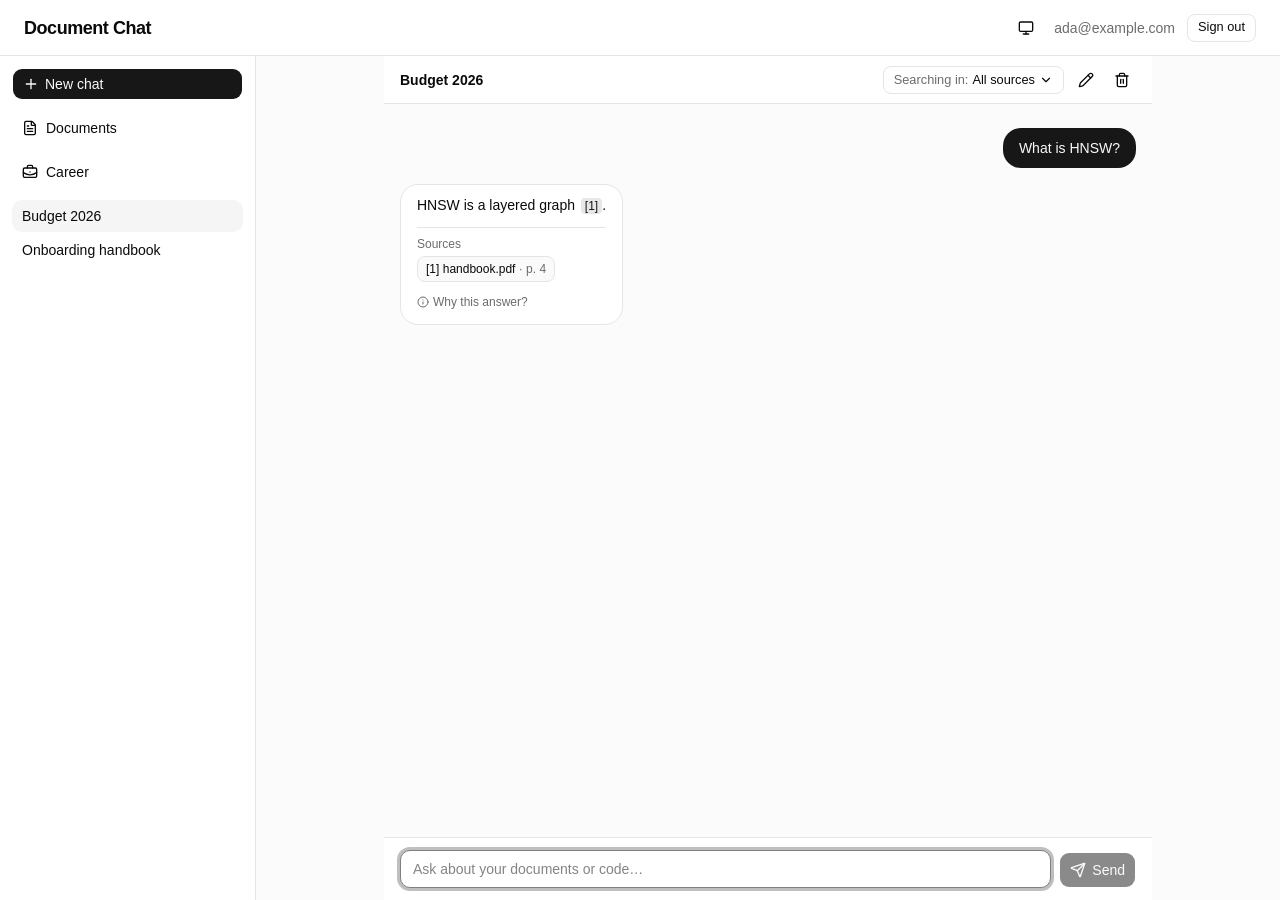
Test: source viewer › opens from a citation marker and shows the cited passage with its surroundings
The width and height of the screenshot is (1280, 900).
Click the button named "Source 1: handbook.pdf, page 4" at [591, 206], box [581, 198, 602, 214]
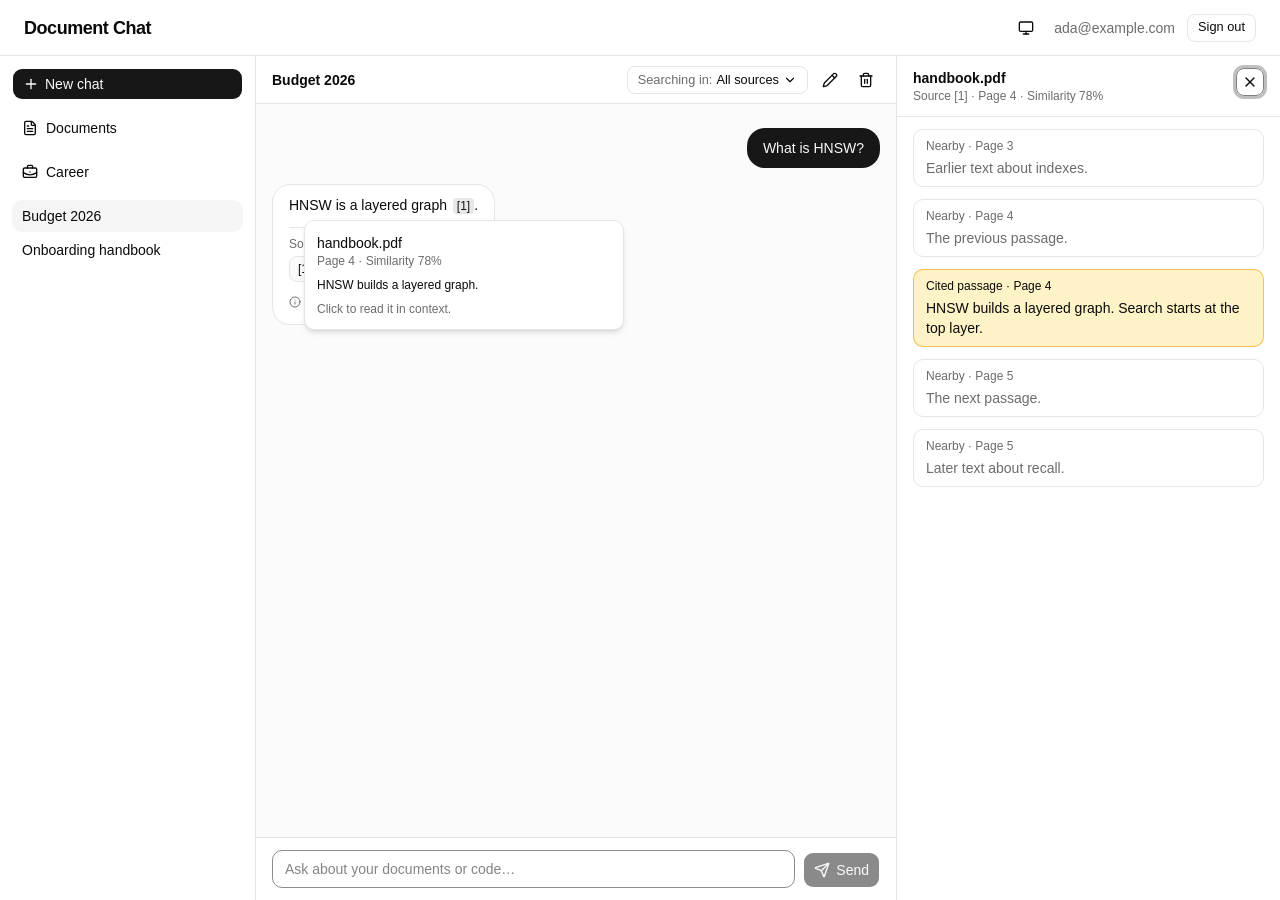
expect the heading "handbook.pdf" is shown: met, box [913, 70, 1006, 86]
expect the text "Source [1] · Page 4 · Similarity 78%" is shown: met, box [913, 89, 1103, 103]
